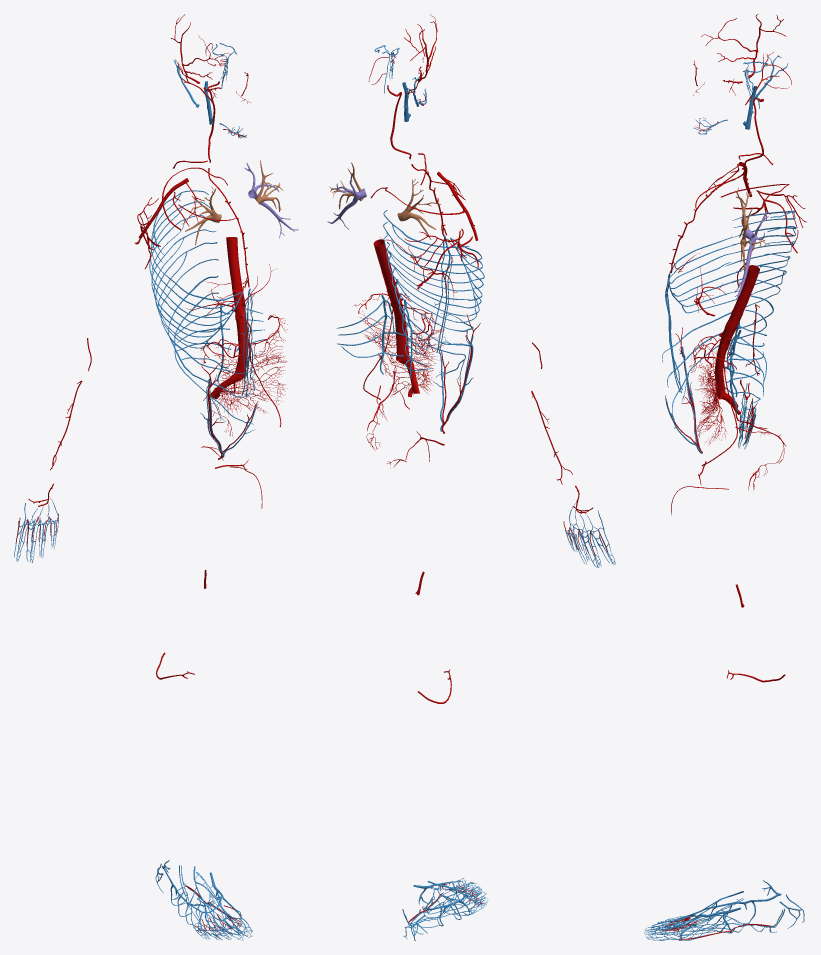
File: cardiovascular-05.glb
3 views of the same model, side by side, from view 1: azimuth 30°, elevation 25°; view 2: azimuth 150°, elevation 25°; view 3: azimuth 270°, elevation 25° (orthographic). The views are drawn at different scales.
Parts seen in each view (by area): view 1: ATLAS_Art_M2201, ATLAS_Art_M2229, ATLAS_Art_M2228; view 2: ATLAS_Art_M2201, ATLAS_Art_M2228, ATLAS_Art_M2229; view 3: ATLAS_Art_M2201, ATLAS_Art_M2229, ATLAS_Art_M2228, ATLAS_Hea_M13, ATLAS_Vei_M2041, ATLAS_Vei_M2046, ATLAS_Vei_M4046.
Part boxes in pixels (x1,y1,x2,y2): ATLAS_Art_M2201: [226, 237, 248, 379]; ATLAS_Art_M2229: [214, 366, 287, 414]; ATLAS_Art_M2228: [214, 328, 287, 387]; ATLAS_Art_M2201: [373, 239, 409, 363]; ATLAS_Art_M2228: [360, 311, 444, 363]; ATLAS_Art_M2229: [377, 338, 435, 396]; ATLAS_Art_M2201: [713, 265, 759, 398]; ATLAS_Art_M2229: [695, 381, 726, 444]; ATLAS_Art_M2228: [695, 344, 723, 407]; ATLAS_Hea_M13: [733, 211, 768, 298]; ATLAS_Vei_M2041: [665, 274, 682, 393]; ATLAS_Vei_M2046: [665, 346, 702, 453]; ATLAS_Vei_M4046: [644, 918, 696, 940].
Bounding box in the file's own units: 2.26 × 6.76 × 1.08.
